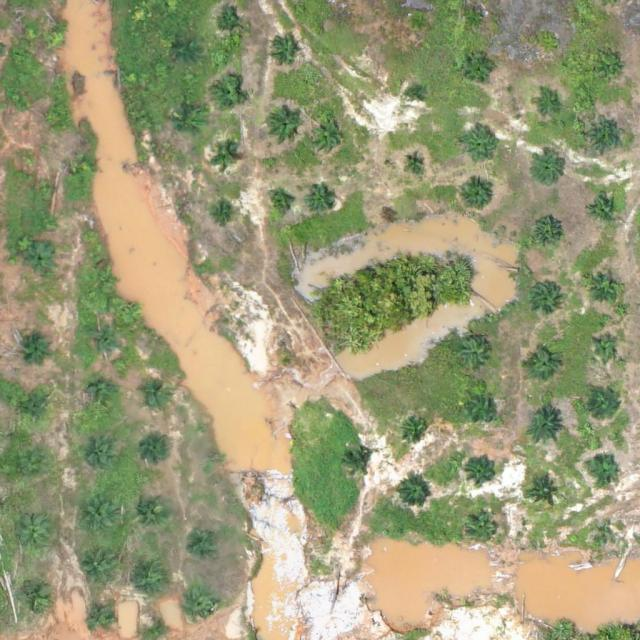Small: (78, 497, 118, 537), (17, 579, 56, 619), (133, 557, 172, 597), (79, 548, 119, 587), (526, 409, 565, 449), (458, 177, 497, 217), (308, 117, 347, 157), (8, 452, 47, 491), (80, 437, 119, 476), (14, 518, 53, 557), (133, 492, 172, 531), (587, 117, 626, 156), (586, 266, 625, 305), (461, 126, 500, 165), (267, 106, 306, 145), (88, 601, 119, 633), (588, 451, 619, 483), (590, 389, 621, 421), (526, 350, 557, 382), (533, 154, 564, 186), (460, 341, 491, 373), (467, 392, 498, 424), (467, 454, 498, 486), (530, 478, 561, 510), (531, 217, 562, 249), (588, 194, 619, 226), (465, 52, 496, 84), (143, 436, 174, 467), (23, 331, 54, 362), (90, 328, 121, 359), (26, 246, 57, 277), (87, 381, 118, 412), (141, 380, 172, 411), (530, 281, 561, 312), (399, 479, 430, 510), (186, 593, 217, 624), (192, 528, 223, 559), (468, 517, 499, 548), (401, 414, 432, 445), (344, 449, 375, 480), (21, 396, 52, 427), (215, 11, 246, 42), (214, 80, 245, 111), (270, 38, 301, 69), (307, 185, 338, 216), (175, 111, 206, 142), (535, 95, 559, 119), (94, 269, 118, 293), (213, 145, 237, 169), (214, 202, 238, 226), (268, 191, 292, 215), (34, 177, 58, 201), (40, 106, 64, 130), (44, 28, 68, 52), (601, 59, 624, 83), (594, 337, 617, 361), (405, 152, 428, 176), (74, 153, 97, 177), (407, 12, 431, 35), (176, 40, 199, 64), (466, 8, 489, 32), (409, 87, 424, 103), (604, 526, 619, 542)
